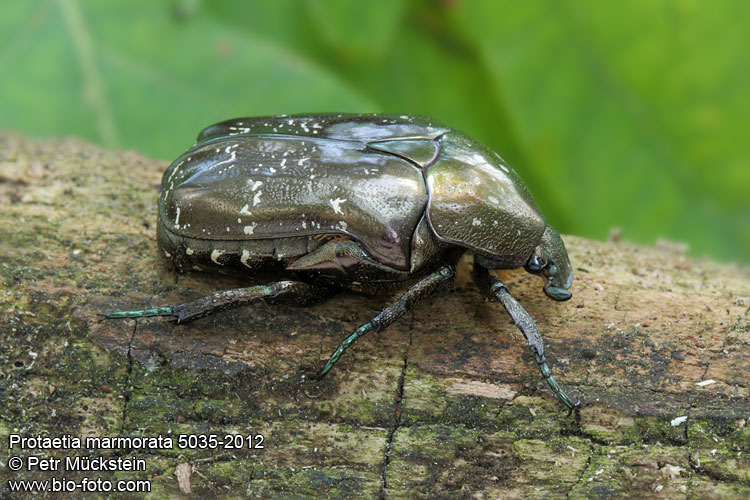Protaetia_lugubris: (118, 102, 590, 445)
